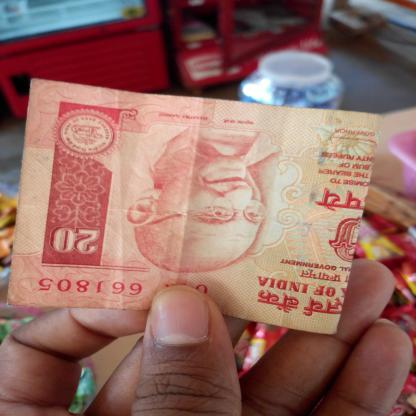Old20Front: (26, 81, 355, 322)
